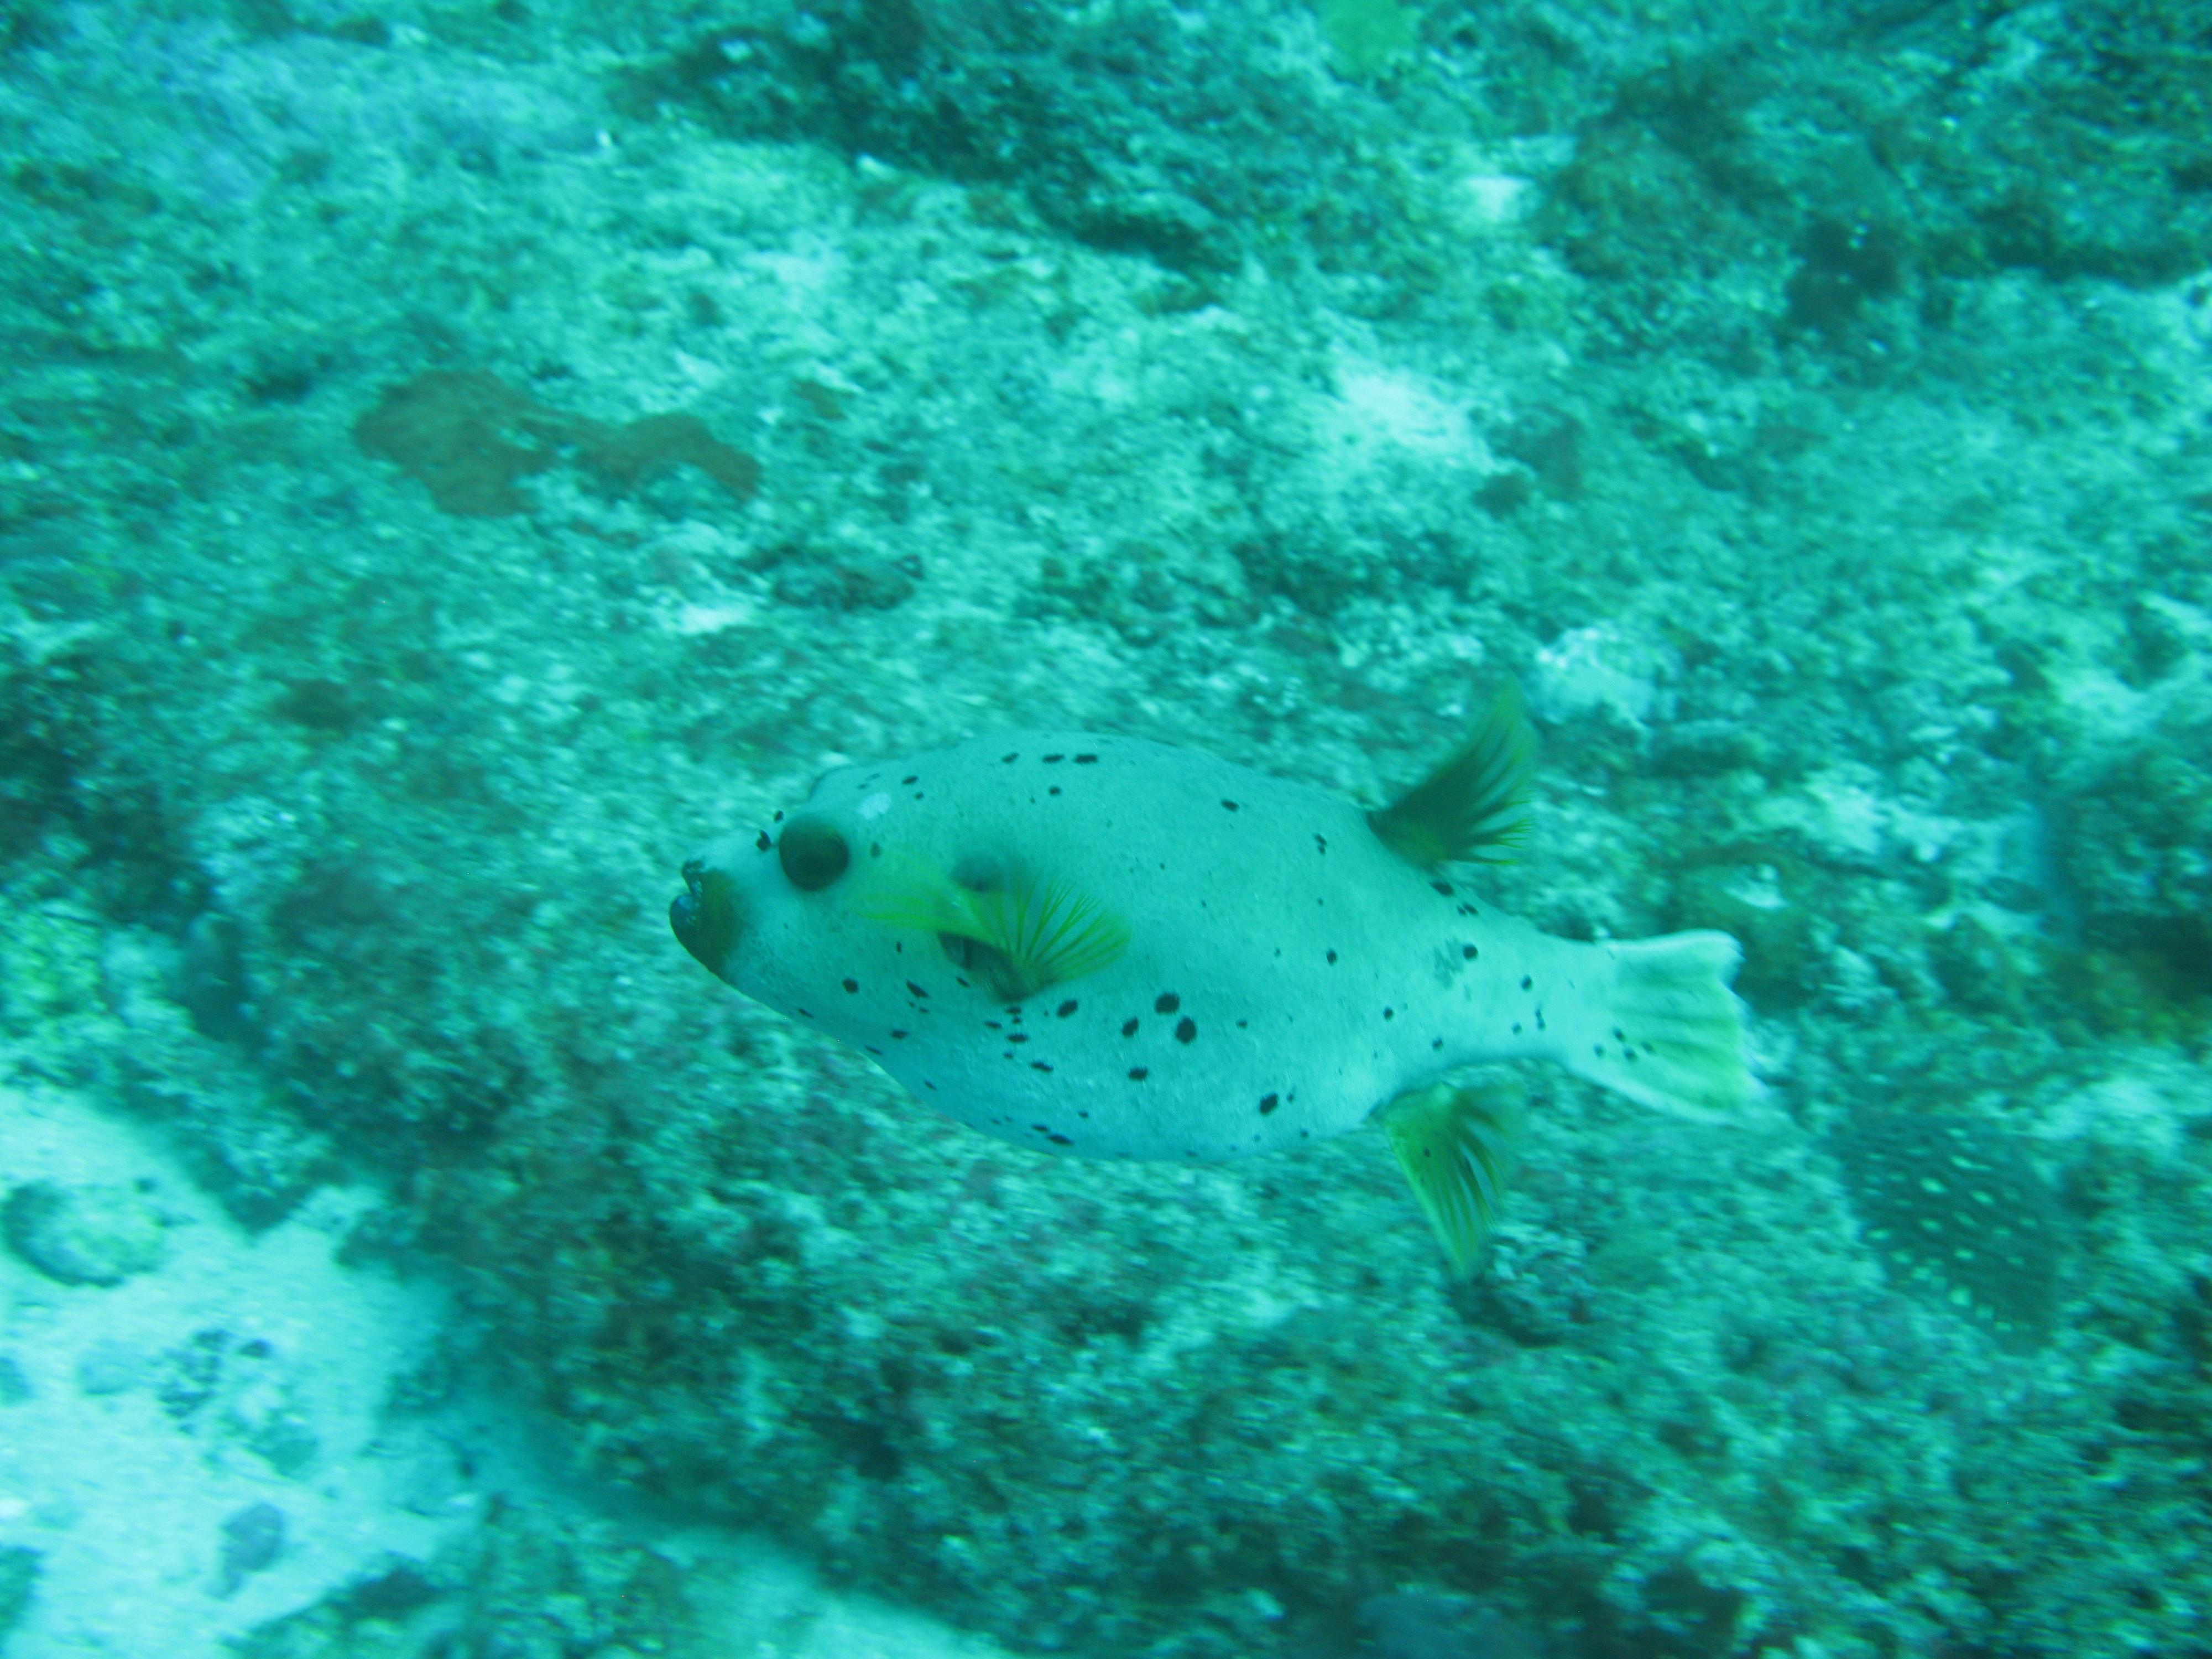Fish: (507, 650, 1914, 1330)
